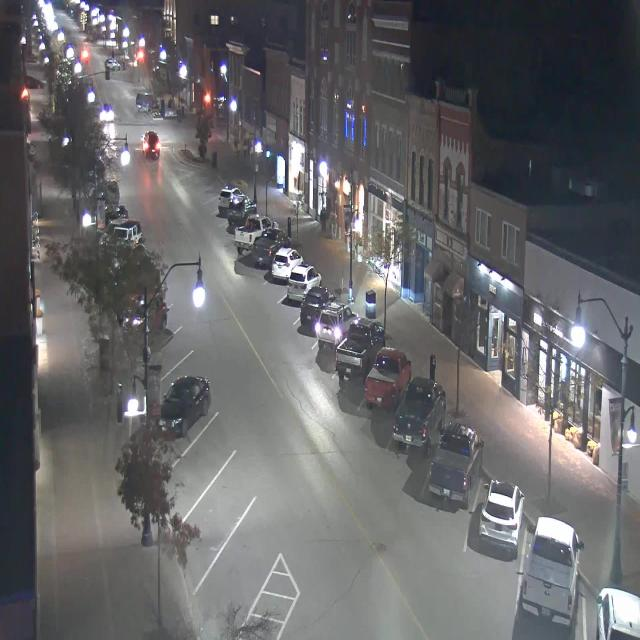available: (224, 493, 302, 582), (211, 446, 268, 515), (194, 401, 240, 466), (160, 320, 200, 360)
occupied: (520, 514, 584, 630), (428, 420, 484, 509), (392, 375, 446, 456), (478, 478, 525, 558), (334, 316, 386, 383), (158, 374, 211, 438), (364, 346, 411, 411), (312, 302, 360, 352), (595, 586, 640, 639), (234, 212, 270, 256), (252, 228, 293, 265), (300, 285, 336, 327), (286, 262, 322, 303), (224, 194, 260, 230), (271, 245, 304, 280), (215, 179, 242, 216)
